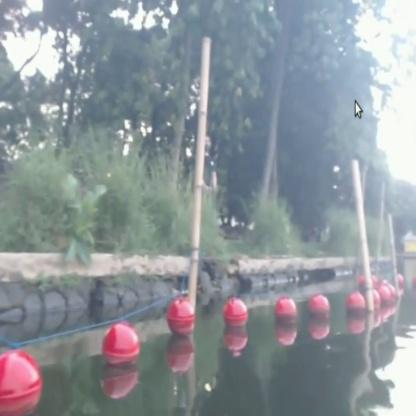red_buoy: (0, 351, 46, 401), (104, 318, 140, 371), (165, 298, 193, 338), (221, 295, 249, 334), (274, 296, 298, 328), (307, 297, 329, 322), (349, 292, 368, 315), (380, 284, 394, 312), (398, 272, 404, 290)
